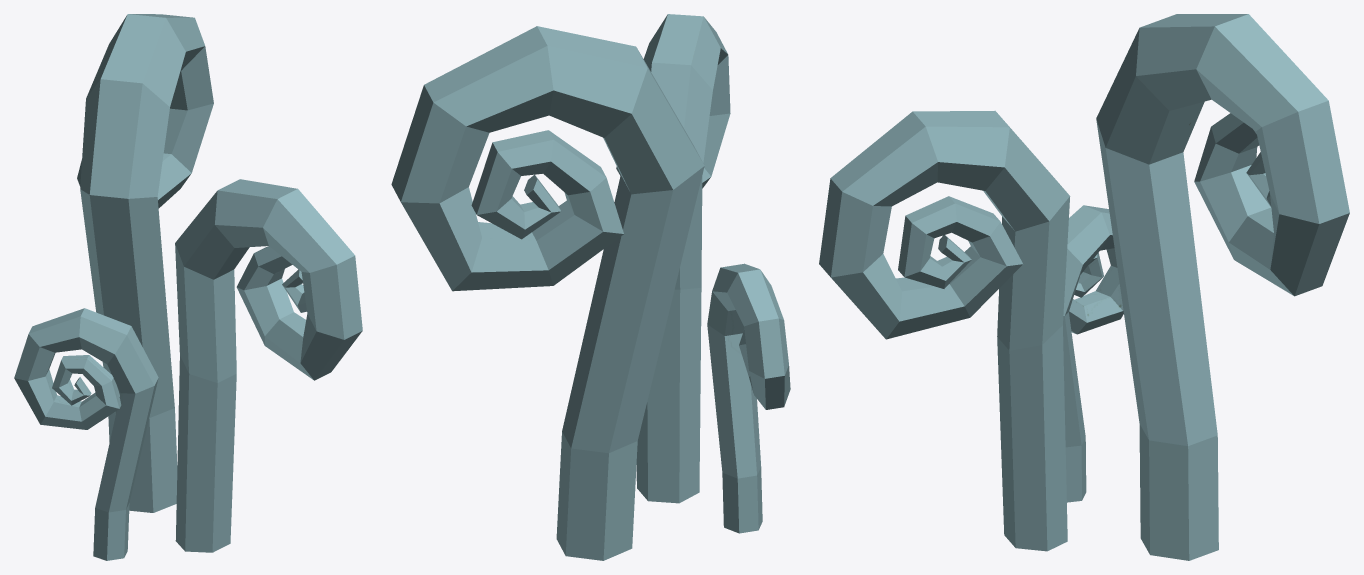
File: plant3.glb
3 views of the same model, side by side, from view 1: azimuth 30°, elevation 25°; view 2: azimuth 150°, elevation 25°; view 3: azimuth 270°, elevation 25° (orthographic). The views are drawn at different scales.
Visible parts, largest first — view 1: node_id4; view 2: node_id4; view 3: node_id4.
Boxes of the visible parts, bbox=[...] form: node_id4: bbox=[14, 14, 362, 560]; node_id4: bbox=[391, 14, 790, 560]; node_id4: bbox=[819, 14, 1349, 560].
Bounding box in the file's own units: 0.3135 × 0.5126 × 0.4575.
Materials: 1 (1 with a texture image).
